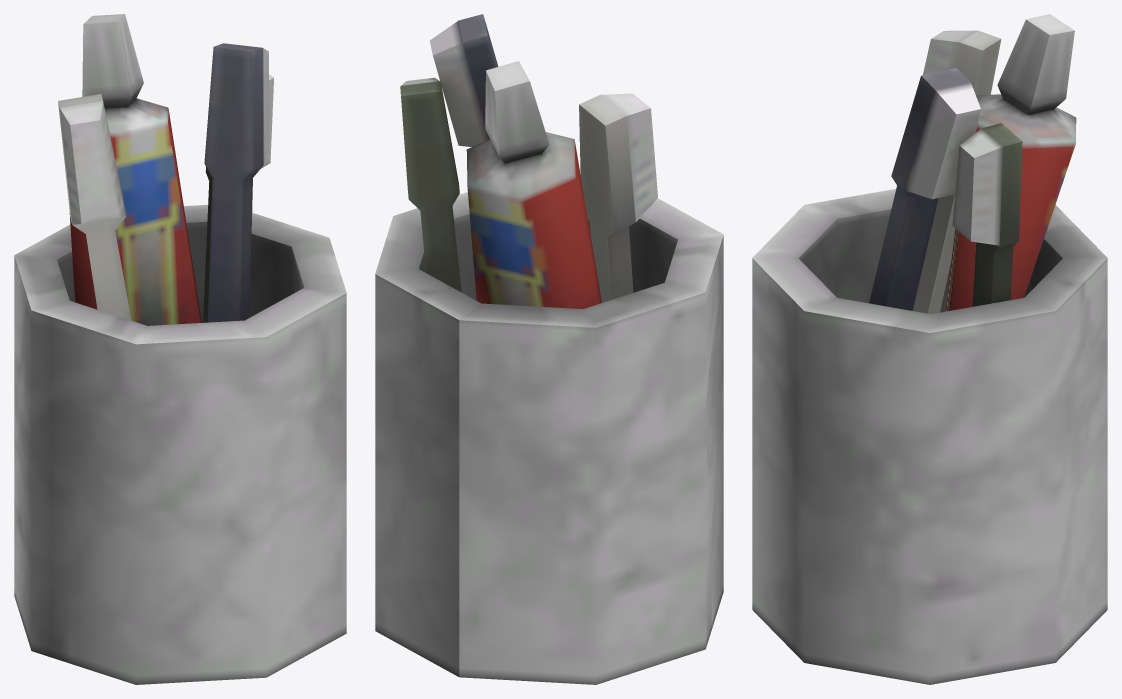
File: soporteCepilloDientes.fbx
3 views of the same model, side by side, from view 1: azimuth 30°, elevation 25°; view 2: azimuth 150°, elevation 25°; view 3: azimuth 270°, elevation 25° (orthographic). The views are drawn at different scales.
Parts seen in each view (by area): view 1: s4studio_mesh_1; view 2: s4studio_mesh_1; view 3: s4studio_mesh_1.
Part boxes in pixels (x1,y1,x2,y2): s4studio_mesh_1: (14,14,346,684); s4studio_mesh_1: (375,14,723,684); s4studio_mesh_1: (752,14,1107,684).
Size of the model in its own units: 11.82 by 21.33 by 11.82.
1 material, 1 textured.
